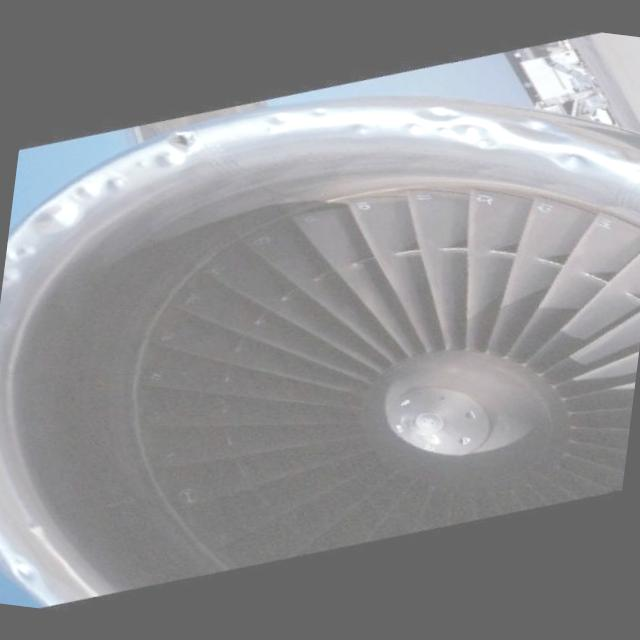dent: (353, 91, 623, 175)
